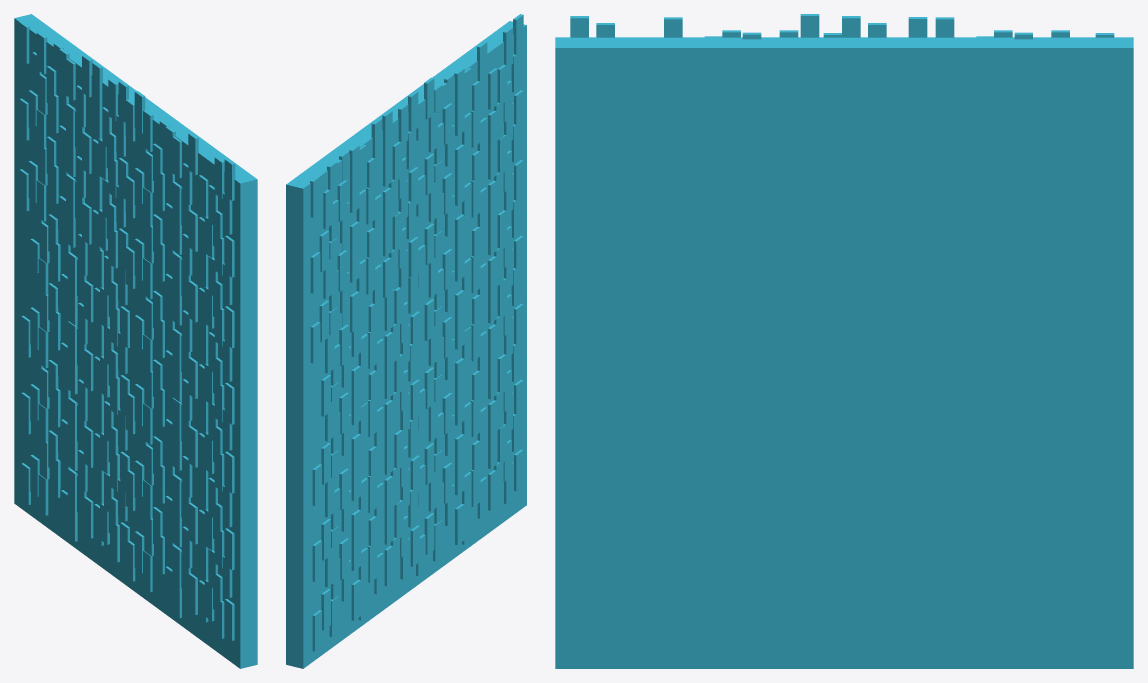
Rendered from Wasserbecken.fbx.
3 renders of one model, left to right at view 1: azimuth 30°, elevation 25°; view 2: azimuth 150°, elevation 25°; view 3: azimuth 270°, elevation 25°, orthographic. The views are drawn at different scales.
Parts seen in each view (by area): view 1: Cube.014, Cube.239, Cube.319, Cube.314, Cube.330, Cube.142, Cube.143, Cube.190, Cube.015, Cube.076, Cube.235, Cube.191 (+71 smaller); view 2: Cube.014, Cube.326, Cube.314, Cube.332, Cube.351, Cube.047, Cube.245, Cube.362, Cube.310, Cube.380, Cube.256, Cube.330 (+58 smaller); view 3: Cube.014.
Part boxes in pixels (x1,y1,x2,y2): Cube.014: (14,14,257,668); Cube.239: (224,158,235,200); Cube.319: (36,32,47,74); Cube.314: (19,21,29,63); Cube.330: (92,62,102,104); Cube.142: (224,451,234,493); Cube.143: (224,528,234,570); Cube.190: (224,599,234,640); Cube.015: (224,383,234,424); Cube.076: (83,349,93,391); Cube.235: (198,175,208,216); Cube.191: (224,306,234,348); Cube.014: (286,21,526,668); Cube.326: (371,118,382,159); Cube.314: (310,176,320,217); Cube.332: (408,91,418,132); Cube.351: (310,252,320,293); Cube.047: (424,299,434,340); Cube.245: (477,41,487,81); Cube.362: (310,322,320,363); Cube.310: (398,103,408,144); Cube.380: (408,237,418,278); Cube.256: (424,77,434,119); Cube.330: (382,110,392,151); Cube.014: (555,37,1133,668).
Size of the model in its own units: 34.74 by 844 by 688.
